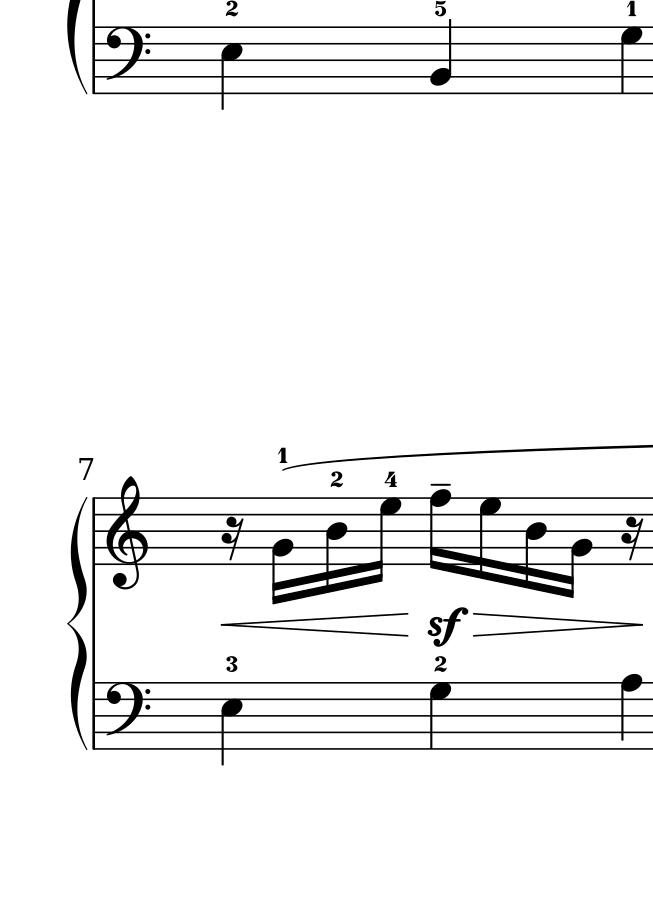1: (275, 445, 289, 466)
16_2: (562, 494, 592, 603), (271, 497, 296, 602)
16_4: (323, 496, 348, 596), (524, 498, 547, 591)
16_7: (368, 495, 401, 584), (478, 493, 500, 586)
16_8: (428, 486, 451, 575)
2: (327, 469, 345, 489), (433, 653, 450, 674)
3: (225, 655, 238, 674)
4: (384, 467, 399, 489)
4_2: (430, 19, 454, 95)
4_5: (219, 25, 244, 112), (219, 681, 243, 768)
4_7: (428, 680, 453, 750)
7: (78, 454, 95, 482)
8_7: (619, 26, 644, 96)
8_8: (619, 671, 644, 752)
Brace: (67, 496, 89, 751)
Crescendo_hairpin: (219, 613, 410, 638)
Diminuendo_hairpin: (473, 610, 642, 636)
Fclef: (102, 24, 149, 96), (103, 680, 150, 751)
Gclef: (104, 470, 150, 594)
Rests16: (221, 516, 246, 561), (620, 515, 644, 561)
Single_barline: (88, 499, 102, 563), (89, 683, 102, 748), (89, 30, 102, 93)
sf: (427, 608, 466, 646)
